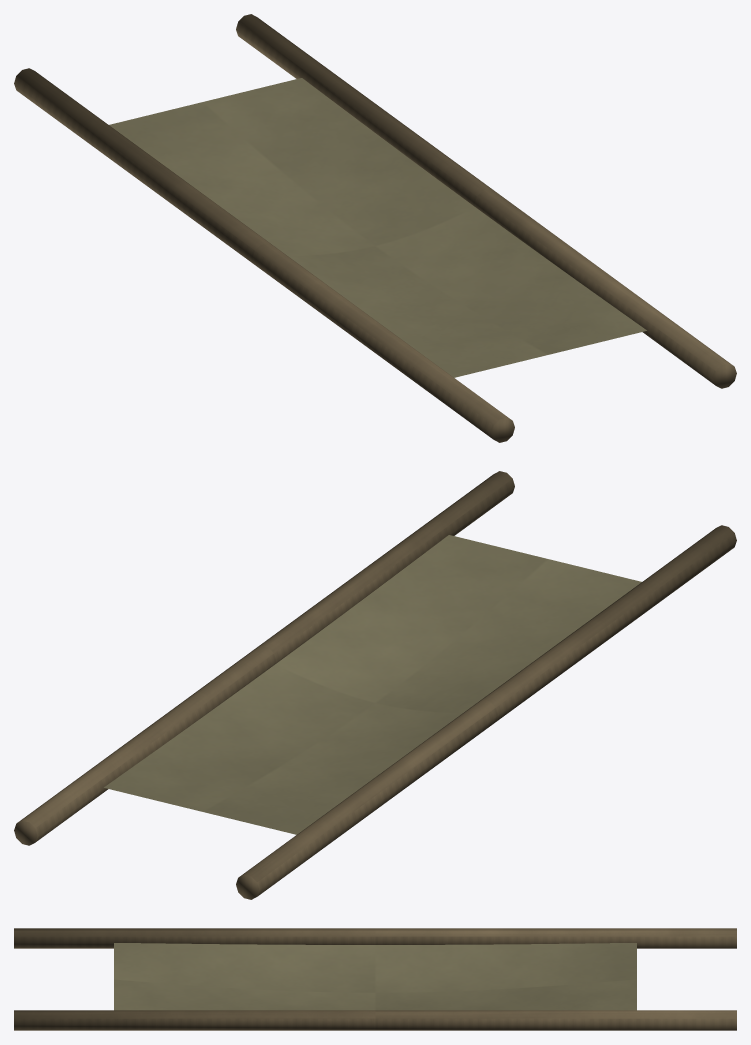
Rendered from prop_stretcher.glb.
3 renders of one model, top to bottom at view 1: azimuth 30°, elevation 25°; view 2: azimuth 150°, elevation 25°; view 3: azimuth 270°, elevation 25°, orthographic. The views are drawn at different scales.
Visible parts, largest first — view 1: canvas_sling__canvas_bed, poles; view 2: canvas_sling__canvas_bed, poles; view 3: canvas_sling__canvas_bed, poles.
Part boxes in pixels (x1,y1,x2,y2): canvas_sling__canvas_bed: [109, 78, 646, 377]; poles: [14, 14, 736, 442]; canvas_sling__canvas_bed: [104, 535, 641, 834]; poles: [14, 471, 736, 899]; canvas_sling__canvas_bed: [114, 943, 636, 1010]; poles: [14, 928, 736, 1030].
Bounding box in the file's own units: 0.73 × 0.0833 × 2.46.
Materials: 2 (2 with a texture image).
